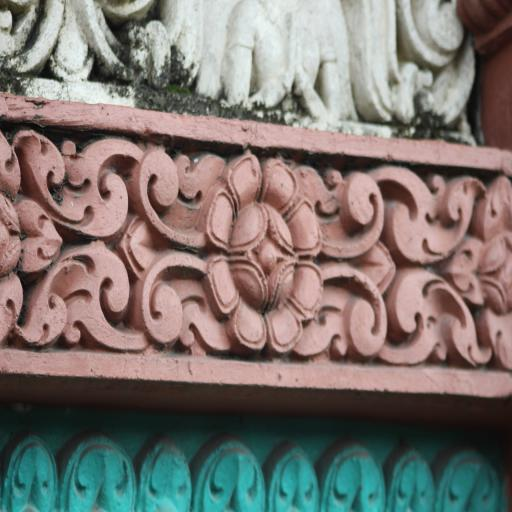hoa: (206, 158, 325, 358), (476, 171, 512, 375)
la: (17, 128, 203, 356), (325, 162, 479, 372)
